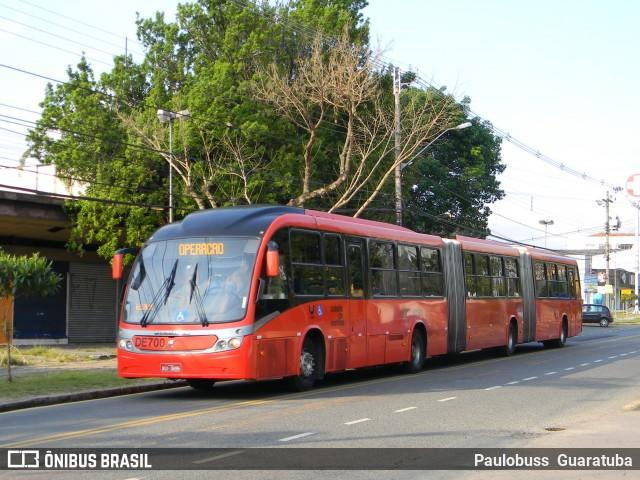OPERACAO: (175, 241, 231, 262)
